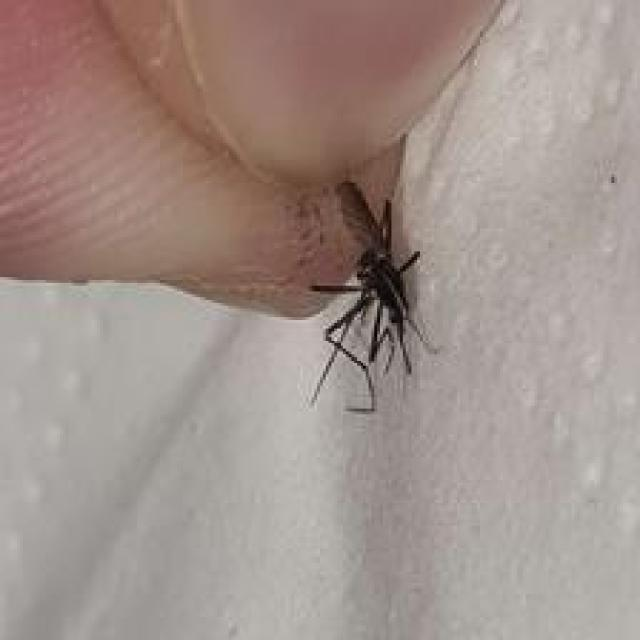Aedes albopictus: (306, 178, 440, 413)
